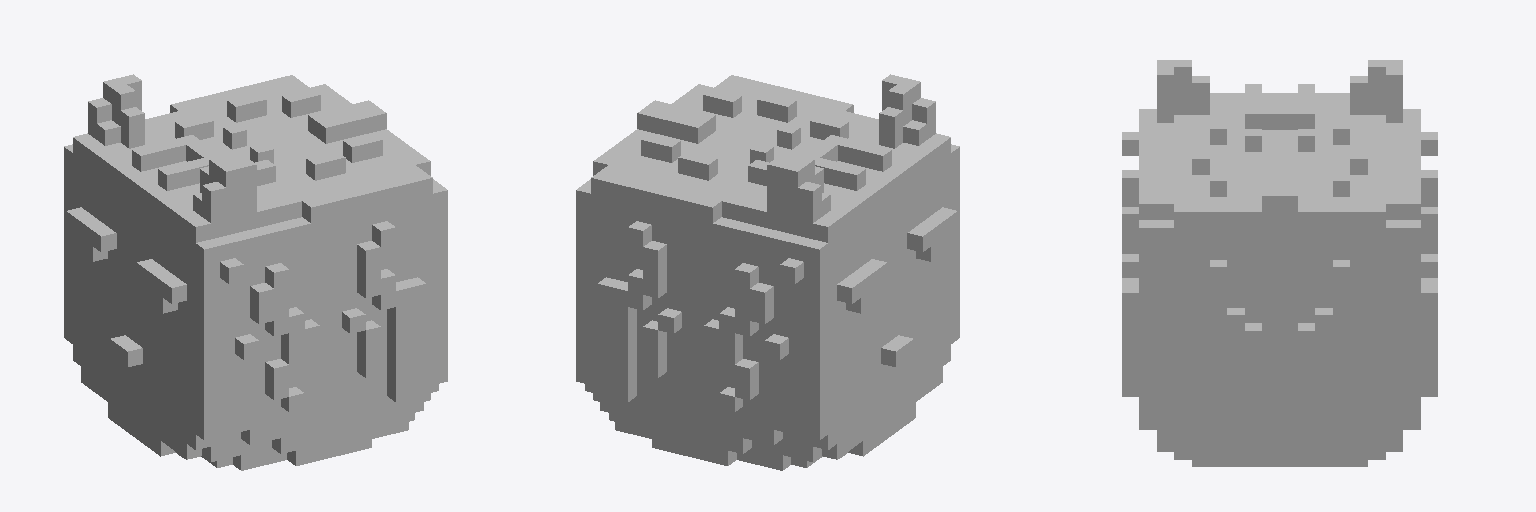
The model's file is PetBear.obj.
3 views of the same model, side by side, from view 1: azimuth 30°, elevation 25°; view 2: azimuth 150°, elevation 25°; view 3: azimuth 270°, elevation 25° (orthographic).
Visible parts, largest first — view 1: object 1; view 2: object 1; view 3: object 1.
Part boxes in pixels (left/top/right/bottom): object 1: left=64, top=74, right=447, bottom=470; object 1: left=576, top=74, right=959, bottom=470; object 1: left=1122, top=60, right=1437, bottom=466.
Bounding box in the file's own units: 1.8 × 1.9 × 1.8.